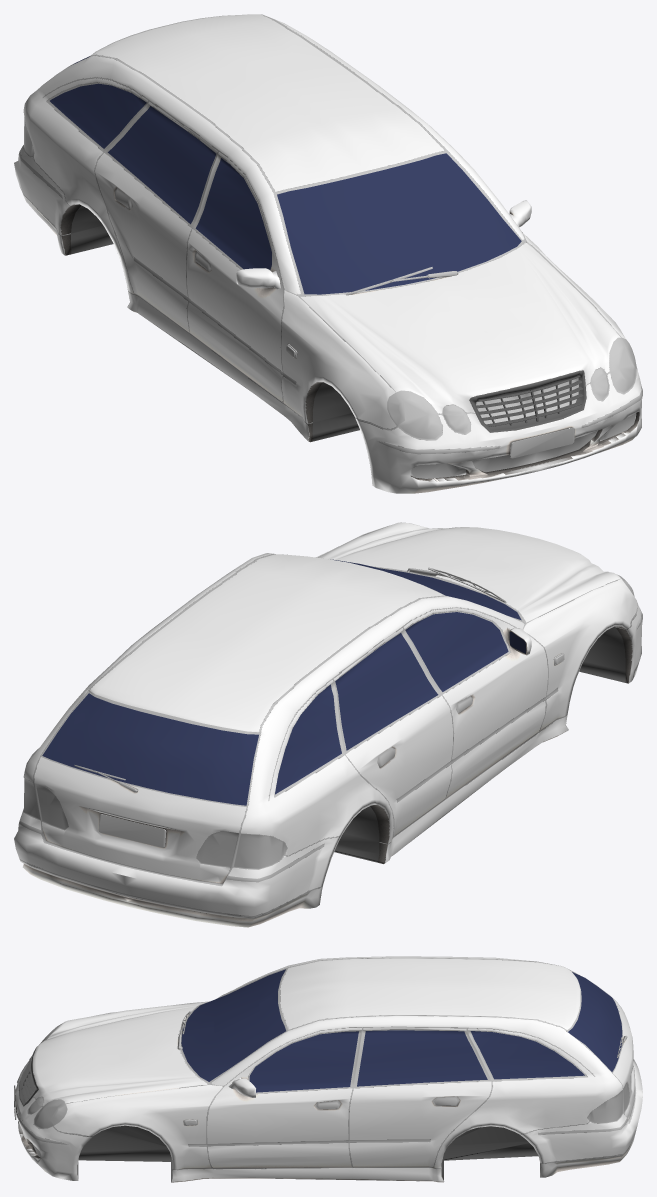
File: car_0018.fbx
3 renders of one model, top to bottom at view 1: azimuth 30°, elevation 25°; view 2: azimuth 150°, elevation 25°; view 3: azimuth 270°, elevation 25°, orthographic. The views are drawn at different scales.
Visible parts, largest first — view 1: car_main; view 2: car_main; view 3: car_main.
Boxes of the visible parts, x1,y1,x2,y2 form: car_main: (14, 14, 642, 493); car_main: (14, 522, 642, 927); car_main: (14, 956, 642, 1182).
Size of the model in its own units: 197 by 131 by 490.
